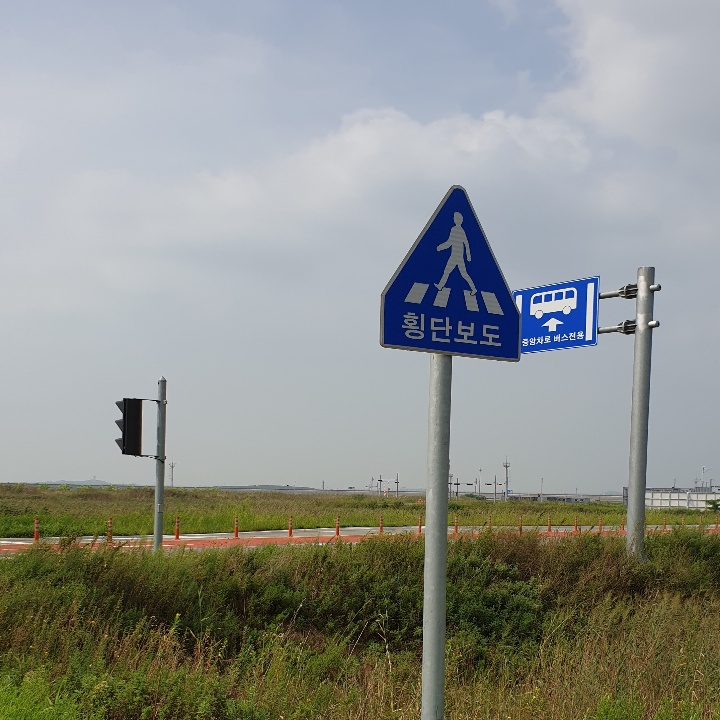cross: (431, 205, 482, 301)
